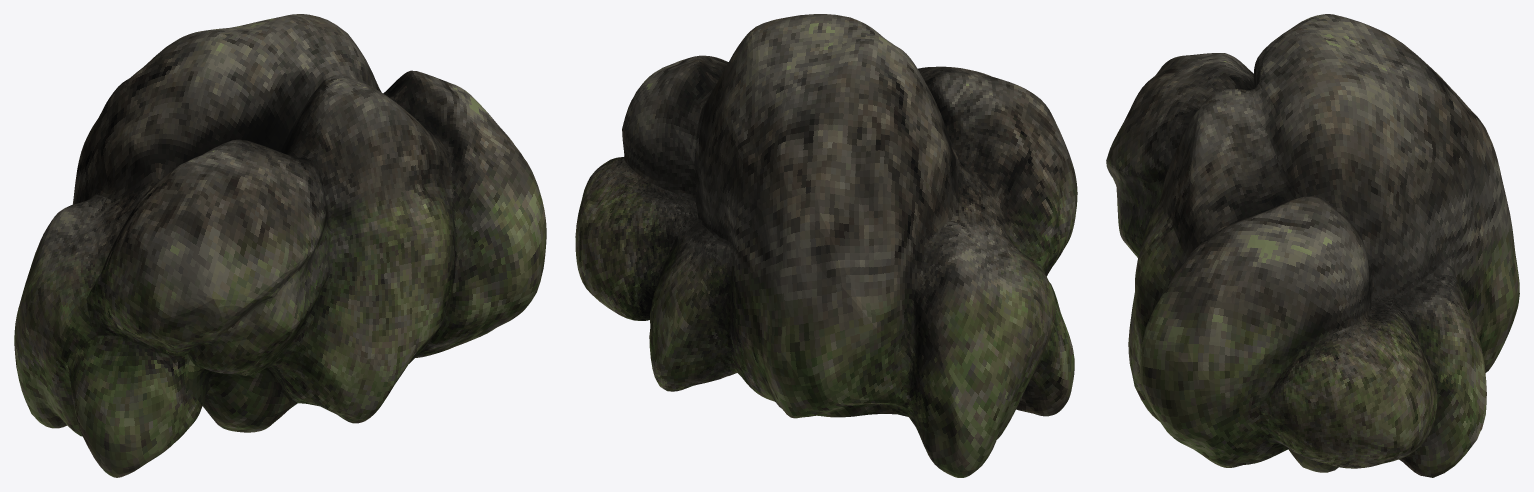
Rendered from rocks_02.glb.
3 views of the same model, side by side, from view 1: azimuth 30°, elevation 25°; view 2: azimuth 150°, elevation 25°; view 3: azimuth 270°, elevation 25° (orthographic). The views are drawn at different scales.
Parts seen in each view (by area): view 1: rocks_02; view 2: rocks_02; view 3: rocks_02.
Part boxes in pixels (x1=…): rocks_02: x1=14, y1=14, x2=546, y2=477; rocks_02: x1=575, y1=14, x2=1077, y2=477; rocks_02: x1=1106, y1=14, x2=1519, y2=477.
Bounding box in the file's own units: 11.05 × 8.92 × 8.02.
Materials: 1 (1 with a texture image).
